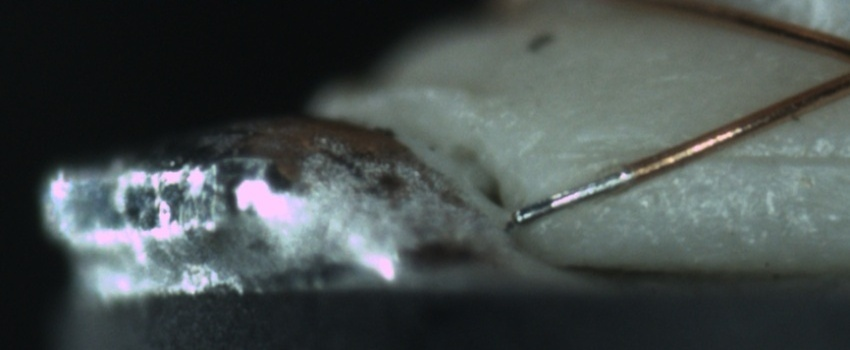CL: (832, 37, 850, 90)
DL: (539, 124, 850, 186)
TS: (508, 167, 633, 224)
